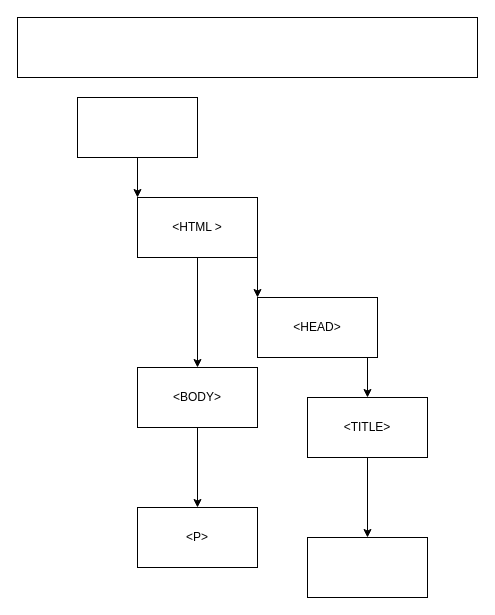
The diagram is 495 pixels wide and 615 high, and some of its shapes have lost their labels. The shapes that lost their labels are listed below. From the top down, each one's centre as x and y in pixels, then its label:
point 137,127: DOCUMENT
point 367,567: "TXT"
